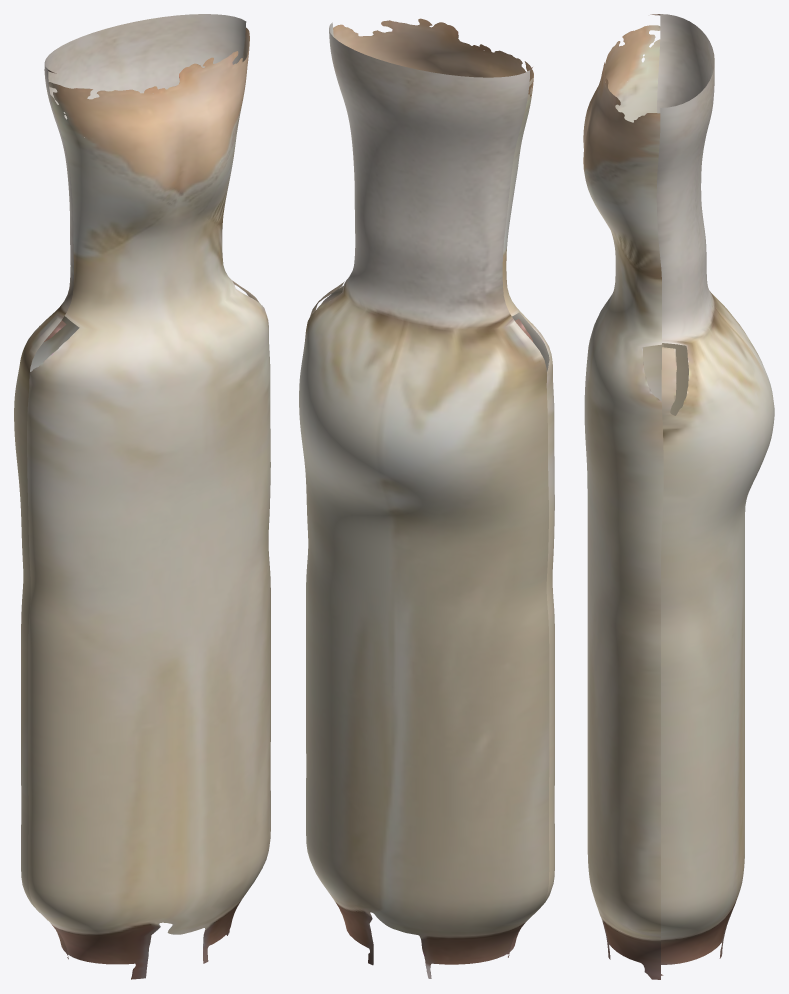
Rendered from prod-ae-butter-lace-slip-midi.glb.
3 renders of one model, left to right at view 1: azimuth 30°, elevation 25°; view 2: azimuth 150°, elevation 25°; view 3: azimuth 270°, elevation 25°, orthographic. The views are drawn at different scales.
Visible parts, largest first — view 1: prod-ae-butter-lace-slip-midi; view 2: prod-ae-butter-lace-slip-midi; view 3: prod-ae-butter-lace-slip-midi.
Boxes of the visible parts, <box> form: prod-ae-butter-lace-slip-midi: <box>14,14,270,979</box>; prod-ae-butter-lace-slip-midi: <box>299,18,554,978</box>; prod-ae-butter-lace-slip-midi: <box>583,14,774,979</box>.
Bounding box in the file's own units: 0.2918 × 1.07 × 0.2096.
Materials: 1 (1 with a texture image).
